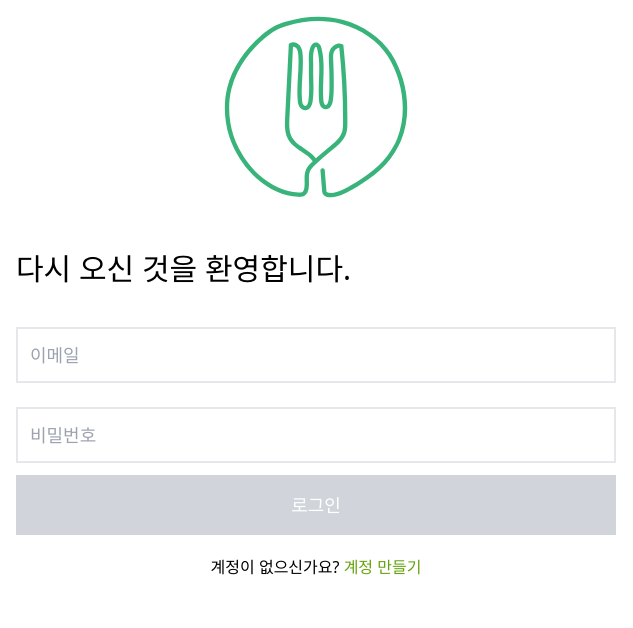
Test: 로그인 › 이메일, 비밀번호 검증의 오류를 표시해야 합니다.
Type "bad@email" into the field with placeholder "이메일". click: [316, 355]
box: 16,327 -> 616,383
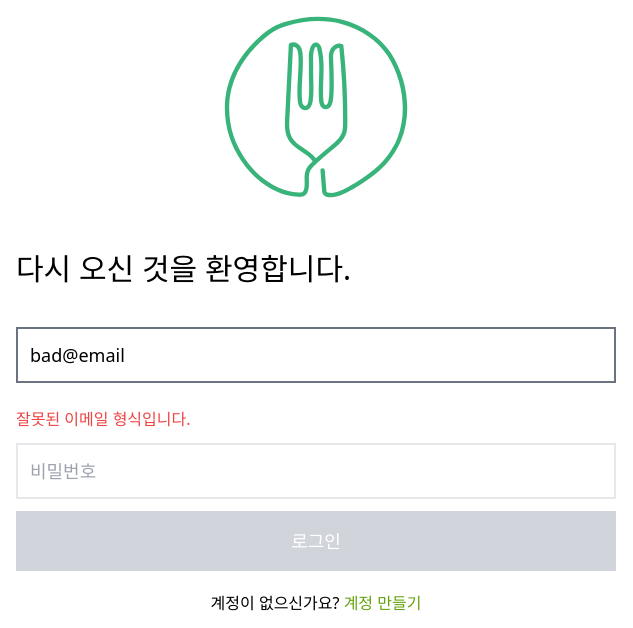
Expected: the message reads "잘못된 이메일 형식입니다.", 16,408 -> 191,430
Clear the field with placeholder "이메일". click: [316, 355]
box: 16,327 -> 616,383
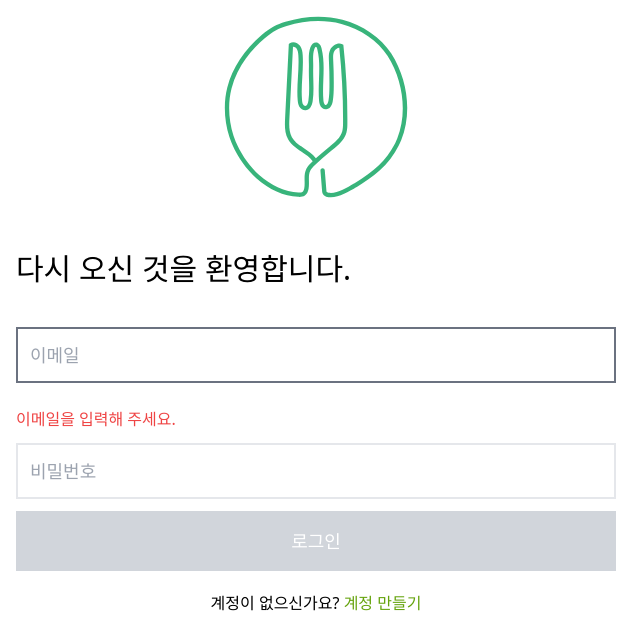
Expected: the message reads "이메일을 입력해 주세요.", 16,408 -> 176,430
Type "bad@email.com" into the field with placeholder "이메일". click: [316, 355]
box: 16,327 -> 616,383
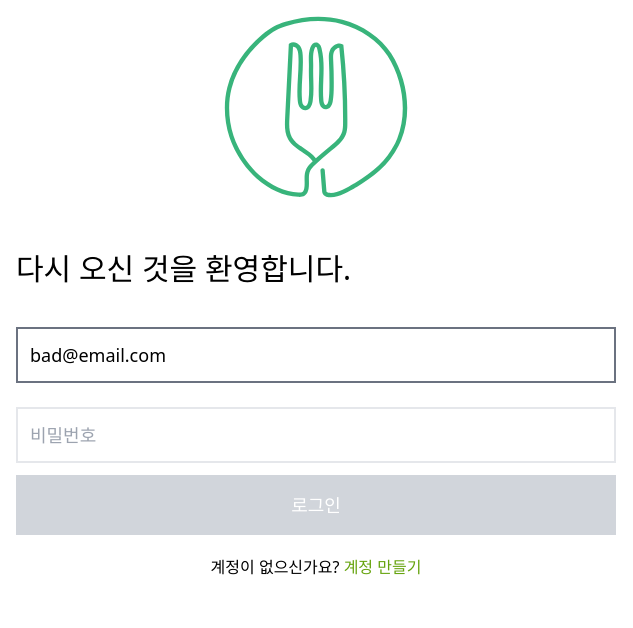
Type "error" into the password field with placeholder "비밀번호". click: [316, 435]
box: 16,407 -> 616,463
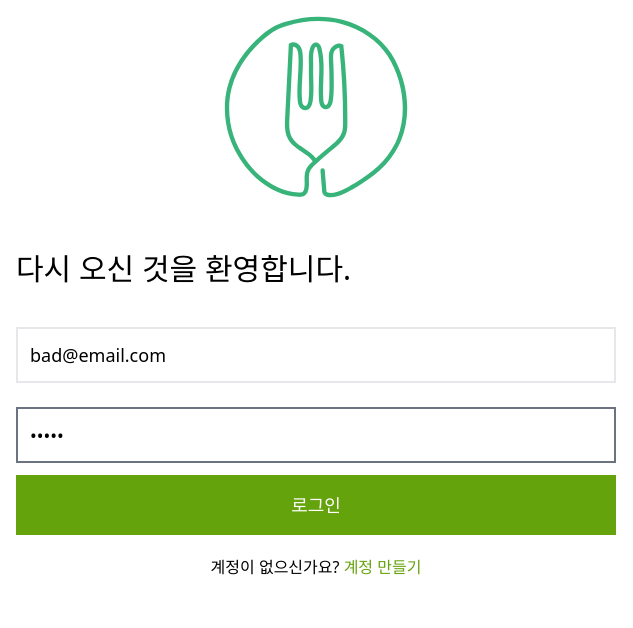
Clear the password field with placeholder "비밀번호". click: [316, 435]
box: 16,407 -> 616,463
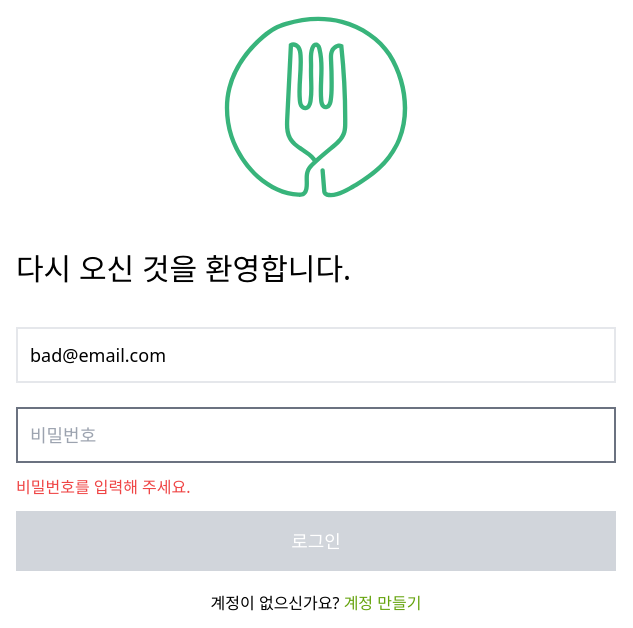
Expected: the message reads "비밀번호를 입력해 주세요.", 16,476 -> 191,498
